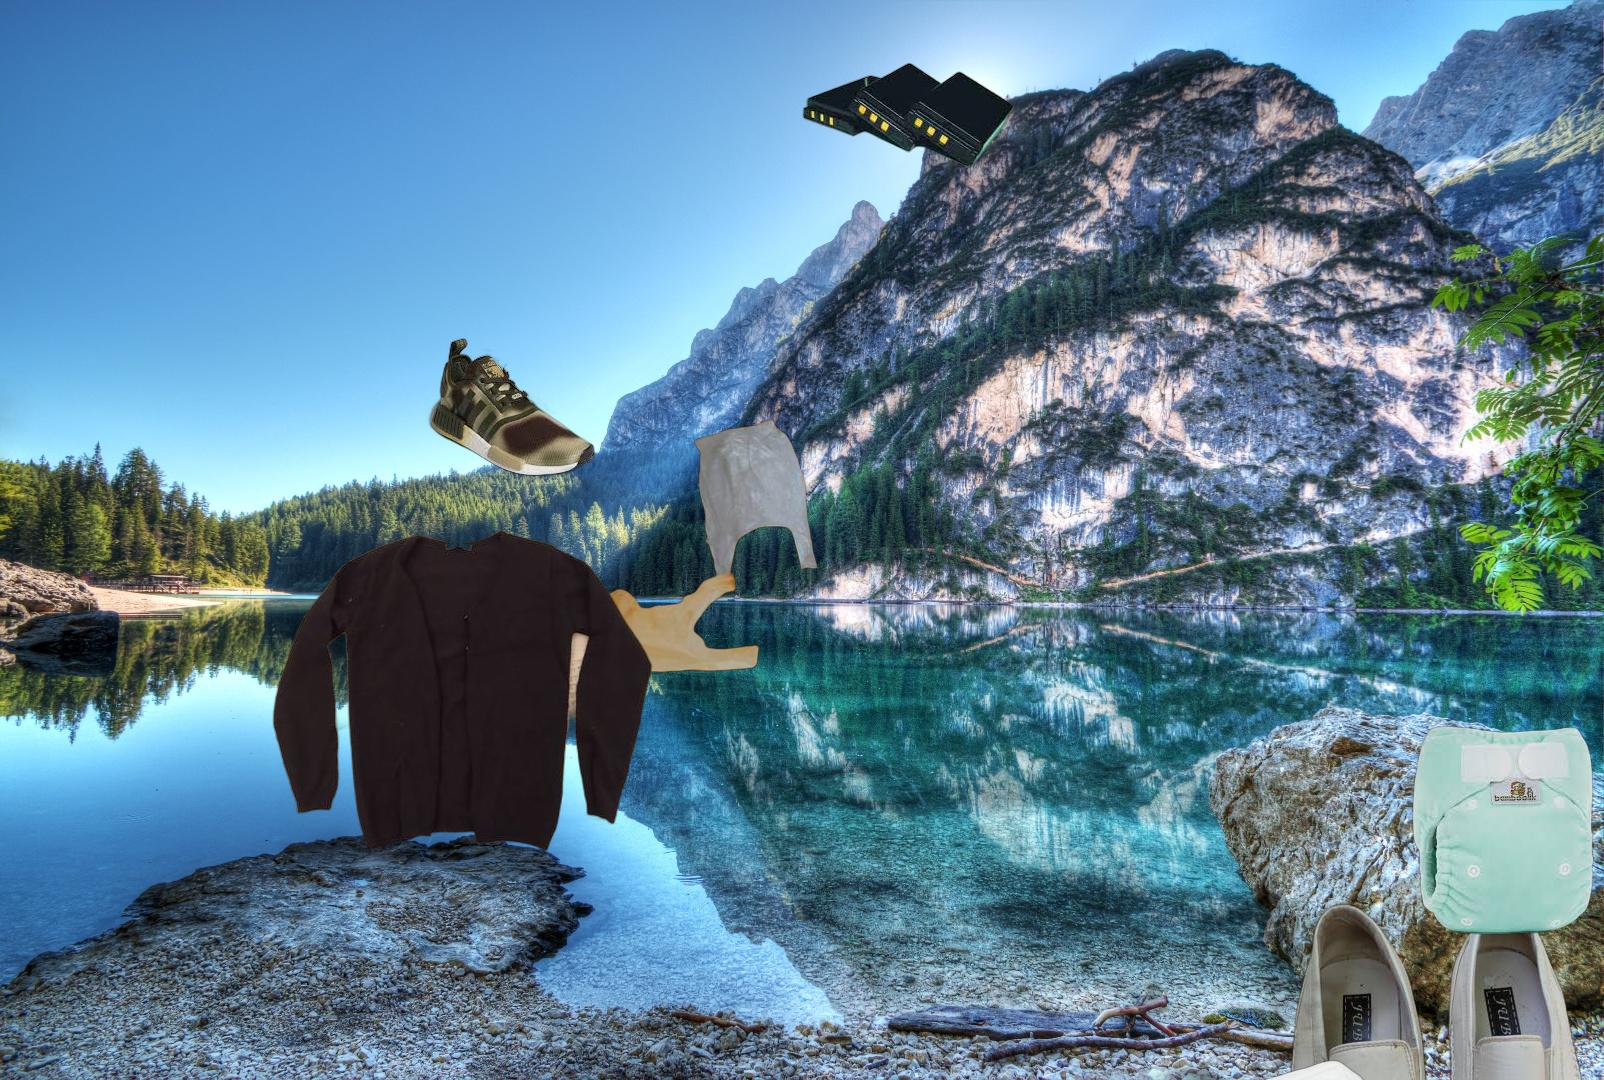battery: (800, 60, 1017, 170)
biological: (828, 932, 1377, 1080)
clothes: (270, 527, 653, 858)
plastic-bag: (586, 417, 819, 693)
shoes: (1215, 856, 1600, 1080), (424, 336, 597, 479)
trash: (1410, 723, 1596, 937), (1221, 1058, 1371, 1080)
